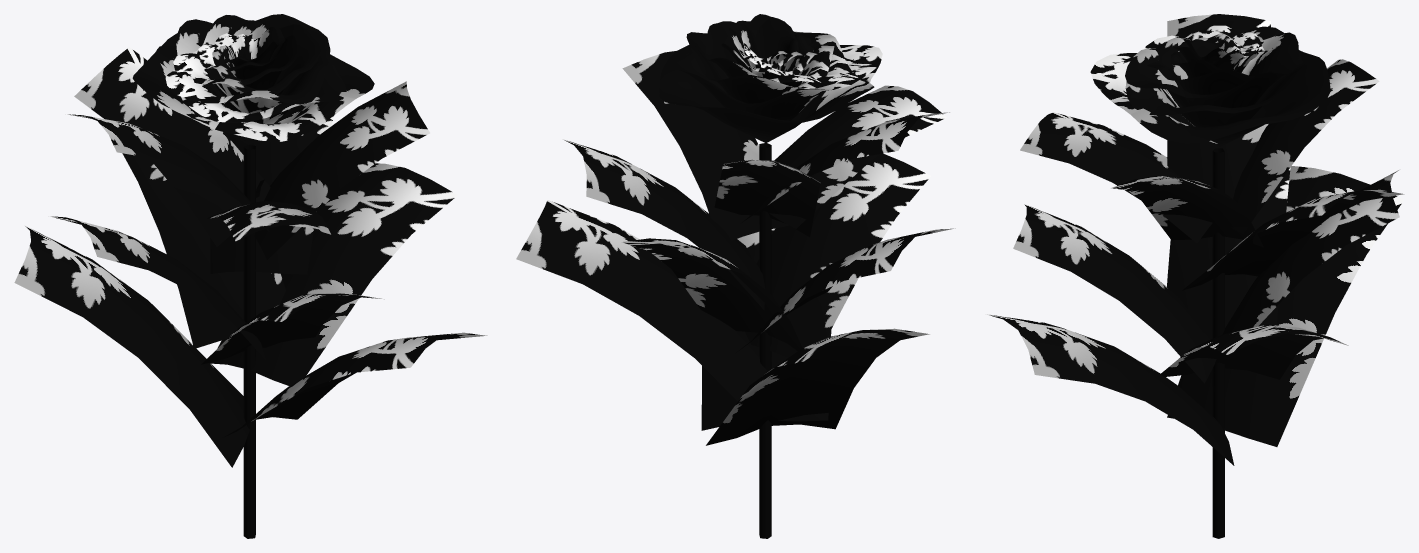
The model's file is SM_Flower_E.glb.
3 views of the same model, side by side, from view 1: azimuth 30°, elevation 25°; view 2: azimuth 150°, elevation 25°; view 3: azimuth 270°, elevation 25° (orthographic).
Visible parts, largest first — view 1: SM_Flower_E_LOD0; view 2: SM_Flower_E_LOD0; view 3: SM_Flower_E_LOD0.
Part boxes in pixels (x1,y1,x2,y2): SM_Flower_E_LOD0: (14,14,487,538); SM_Flower_E_LOD0: (516,14,955,538); SM_Flower_E_LOD0: (985,14,1404,538).
Bounding box in the file's own units: 0.4145 × 0.4843 × 0.3691.
1 material, 1 textured.
